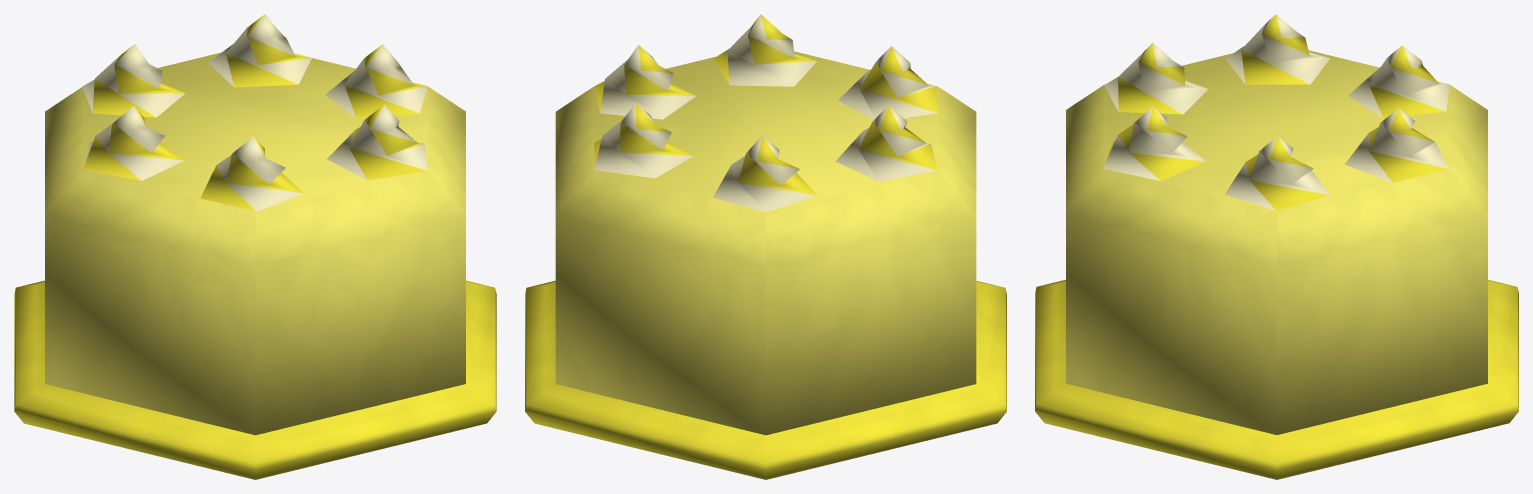
File: Cake_B_06.FBX
The picture shows the model from 3 angles, left to right: view 1: azimuth 30°, elevation 25°; view 2: azimuth 150°, elevation 25°; view 3: azimuth 270°, elevation 25°; orthographic projection.
Visible parts, largest first — view 1: Cake_2; view 2: Cake_2; view 3: Cake_2.
Part boxes in pixels (x1,y1,x2,y2): Cake_2: (14, 14, 496, 479); Cake_2: (525, 14, 1006, 479); Cake_2: (1035, 14, 1518, 479).
Bounding box in the file's own units: 117 × 67.83 × 101.
